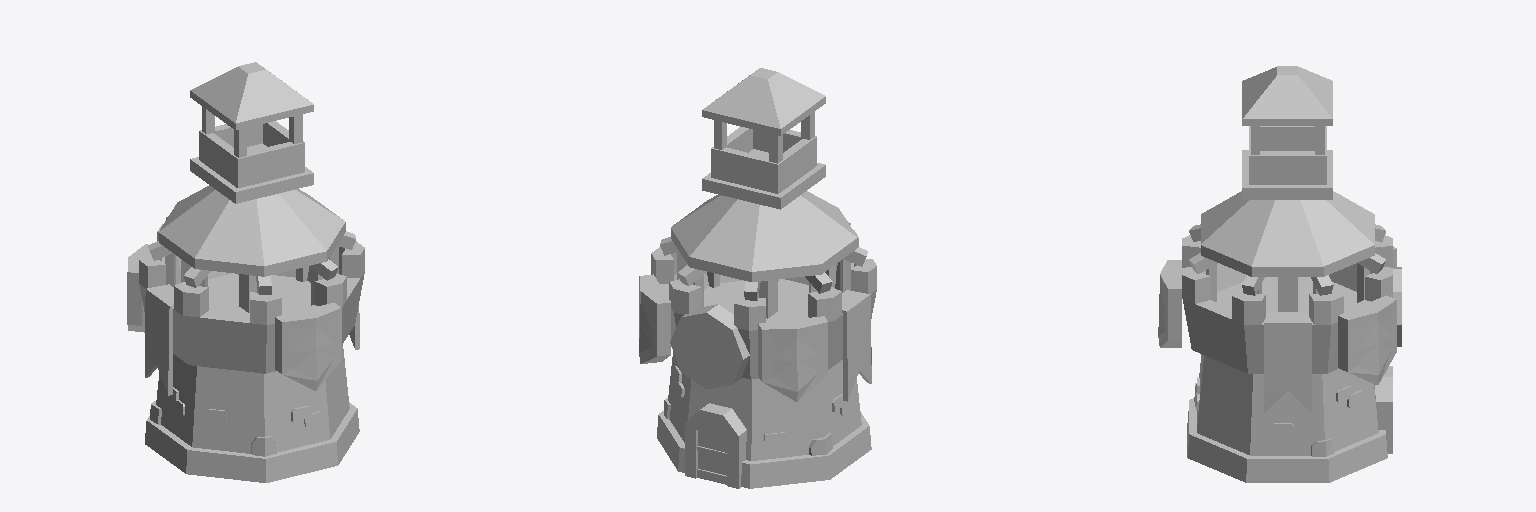
File: ArcherTower_Lv4A.obj
3 views of the same model, side by side, from view 1: azimuth 30°, elevation 25°; view 2: azimuth 150°, elevation 25°; view 3: azimuth 270°, elevation 25° (orthographic).
Visible parts, largest first — view 1: ArcherTower_Lv4A; view 2: ArcherTower_Lv4A; view 3: ArcherTower_Lv4A.
Part boxes in pixels (x1,y1,x2,y2): ArcherTower_Lv4A: (127,62,364,482); ArcherTower_Lv4A: (639,68,876,488); ArcherTower_Lv4A: (1158,66,1401,482).
Bounding box in the file's own units: 6.8 × 12.6 × 7.5.